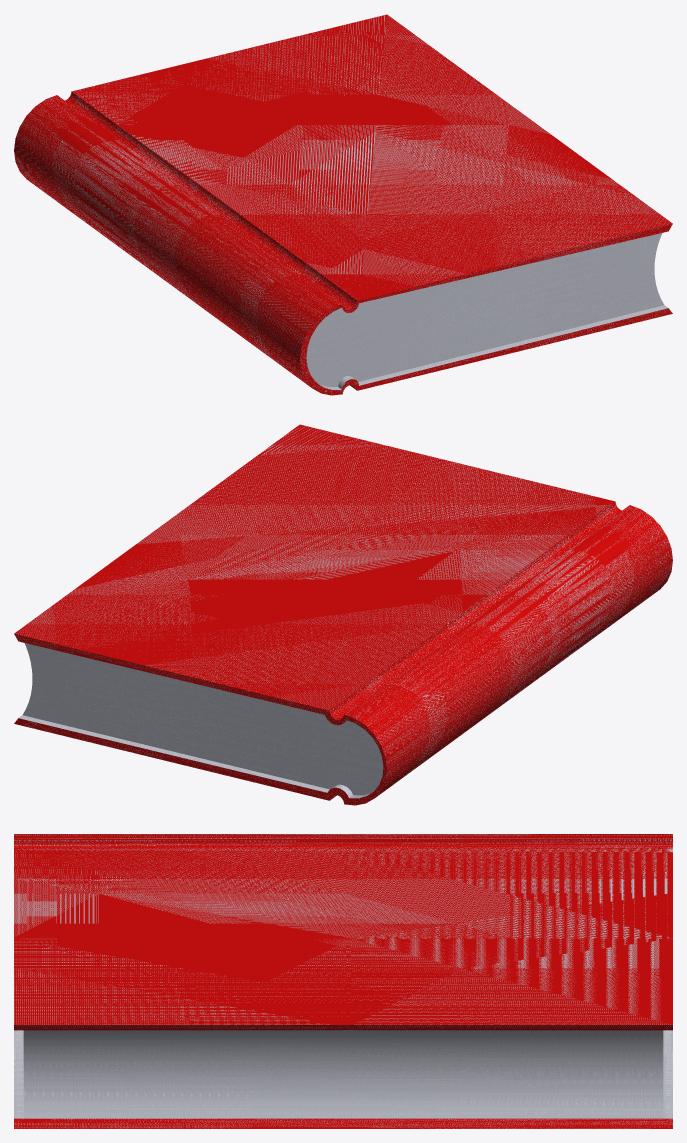
The model's file is book1_red.dae.
3 renders of one model, top to bottom at view 1: azimuth 30°, elevation 25°; view 2: azimuth 150°, elevation 25°; view 3: azimuth 270°, elevation 25°, orthographic. The views are drawn at different scales.
Parts seen in each view (by area): view 1: SketchUp, SketchUp_001; view 2: SketchUp, SketchUp_002; view 3: SketchUp, SketchUp_001, SketchUp_002.
Boxes of the visible parts, x1,y1,x2,y2 form: SketchUp: (14,14,672,395); SketchUp_001: (306,233,668,389); SketchUp: (14,424,672,805); SketchUp_002: (18,643,383,798); SketchUp: (14,834,672,1128); SketchUp_001: (14,1030,663,1118); SketchUp_002: (663,1030,672,1118).
Size of the model in its own units: 0.13 by 0.1725 by 0.03.
